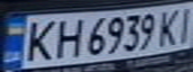3: (121, 11, 142, 53)
6: (84, 14, 109, 56)
9: (103, 12, 127, 55), (136, 10, 160, 49)
H: (51, 16, 84, 60)
I: (172, 2, 193, 44)
K: (18, 17, 60, 63), (154, 6, 184, 47)
